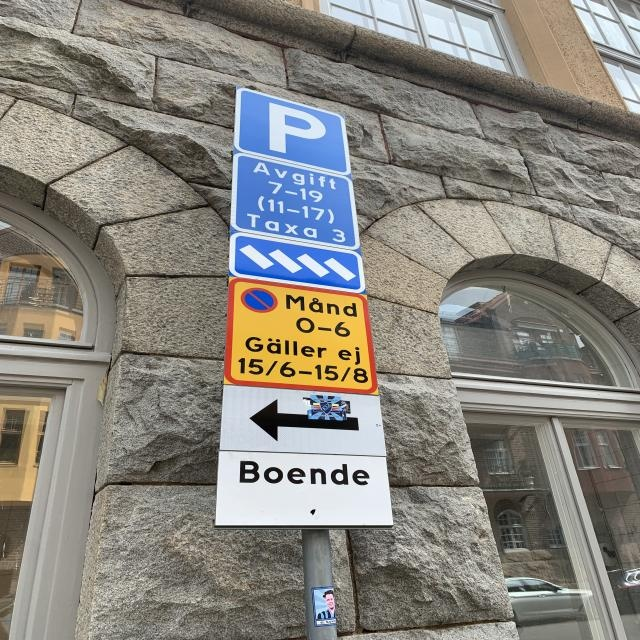P-skylt: (232, 85, 356, 177)
